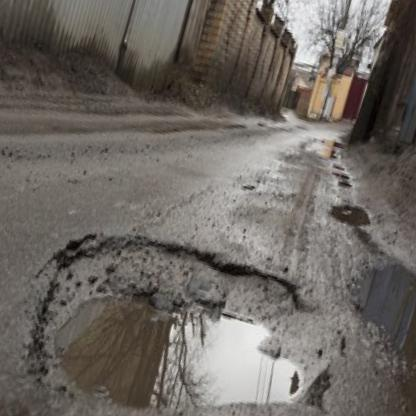pothole: (16, 202, 333, 416)
